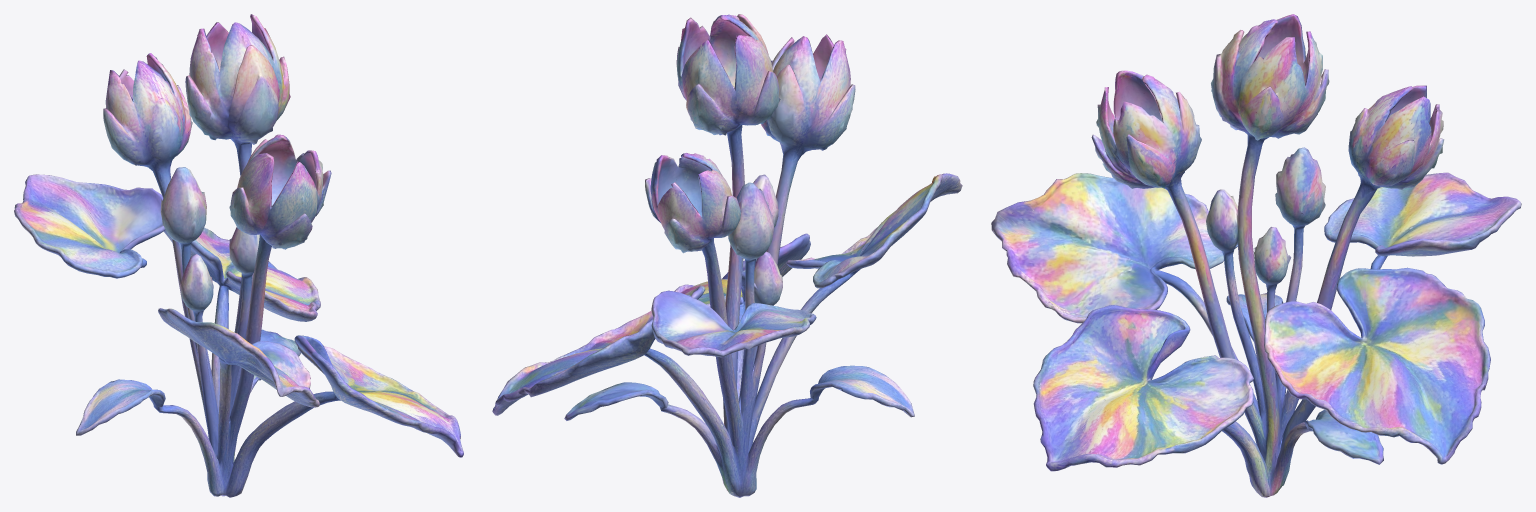
Rendered from stylized+plant+3d+model+1k.glb.
The picture shows the model from 3 angles, left to right: view 1: azimuth 30°, elevation 25°; view 2: azimuth 150°, elevation 25°; view 3: azimuth 270°, elevation 25°; orthographic projection. The views are drawn at different scales.
Visible parts, largest first — view 1: tripo_node_96099cf9-27bc-42aa-b573-04c4b7a5c959; view 2: tripo_node_96099cf9-27bc-42aa-b573-04c4b7a5c959; view 3: tripo_node_96099cf9-27bc-42aa-b573-04c4b7a5c959.
Part boxes in pixels (x1,y1,x2,y2): tripo_node_96099cf9-27bc-42aa-b573-04c4b7a5c959: (14,14,463,497); tripo_node_96099cf9-27bc-42aa-b573-04c4b7a5c959: (492,14,962,497); tripo_node_96099cf9-27bc-42aa-b573-04c4b7a5c959: (991,14,1521,497).
Bounding box in the file's own units: 0.7076 × 0.9985 × 1.
1 material, 1 textured.
